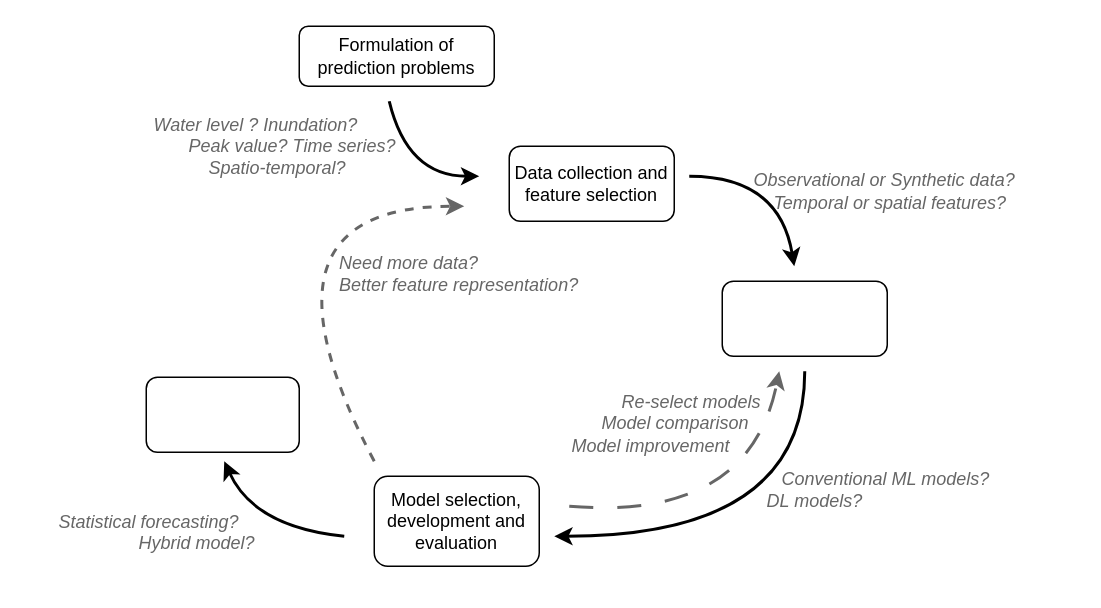
The diagram is 1101 pixels wide and 608 high, and some of its shapes have lost their labels. The shapes that lost their labels are listed below. From the top down, each one's centre as x and y in pixels, then its label:
(x=804, y=318): Selection of proper ML methods
(x=222, y=414): Applying models in practice
